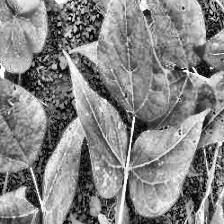ALS: (128, 111, 214, 220), (90, 0, 169, 113), (194, 0, 224, 79), (0, 185, 41, 223)
